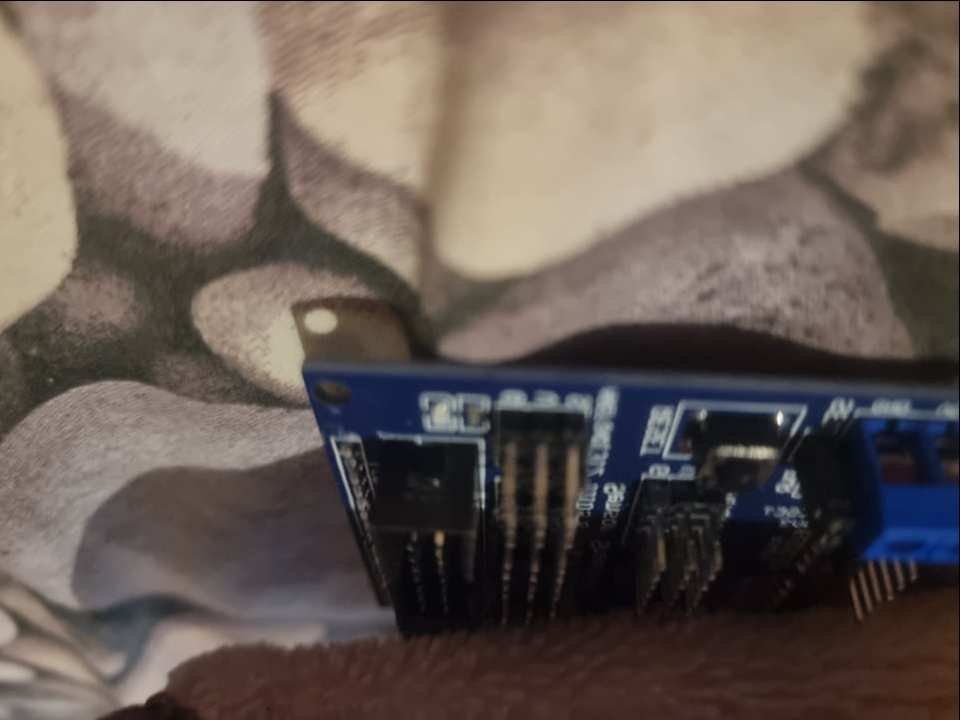5V EXPANSION: (303, 358, 957, 648)
